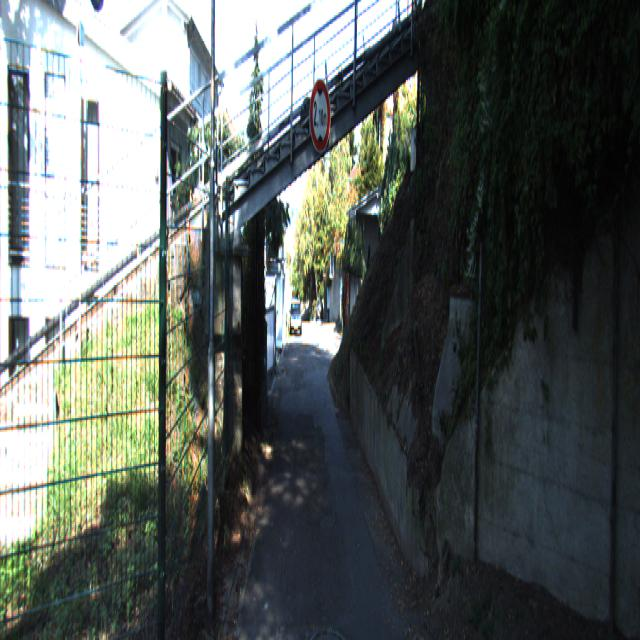Car: (290, 302, 302, 338)
